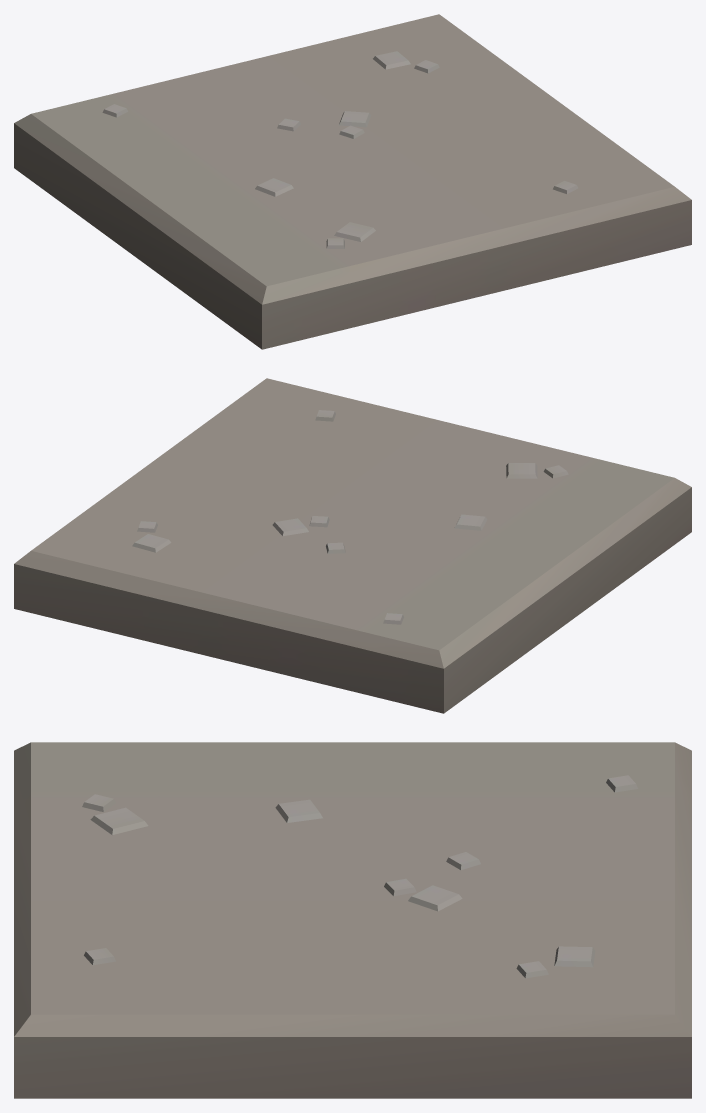
The model's file is floor_dirt.glb.
The picture shows the model from 3 angles, top to bottom: view 1: azimuth 30°, elevation 25°; view 2: azimuth 150°, elevation 25°; view 3: azimuth 270°, elevation 25°; orthographic projection. The views are drawn at different scales.
Parts seen in each view (by area): view 1: floor_dirt; view 2: floor_dirt; view 3: floor_dirt.
Part boxes in pixels (x1,y1,x2,y2): floor_dirt: [14, 14, 691, 349]; floor_dirt: [14, 378, 691, 713]; floor_dirt: [14, 742, 691, 1098].
Size of the model in its own units: 4 by 0.5298 by 4.
1 material, 1 textured.
